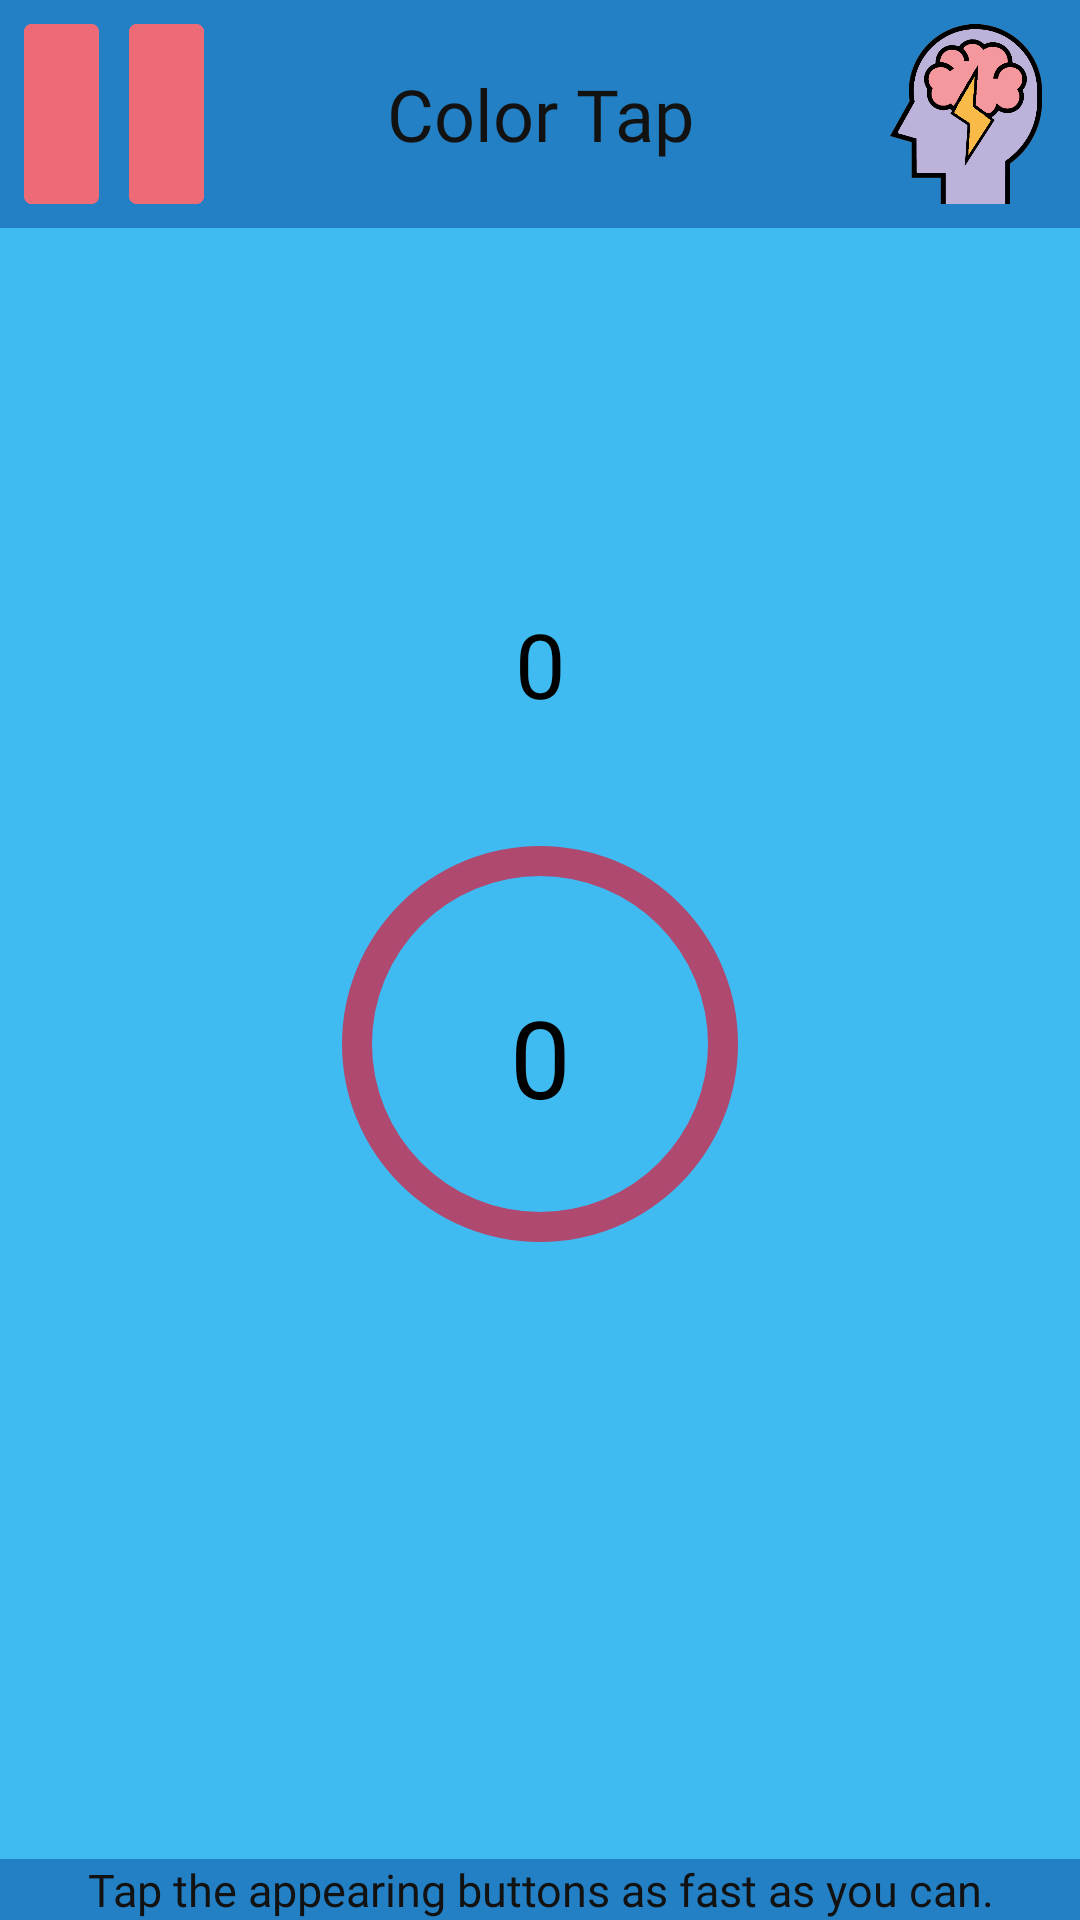

Screen size 1080x1920. Icon name, then its box in pixels as [x1,y1,x2,y2]:
pause: [24,24,204,204]
reflex: [890,24,1042,204]
